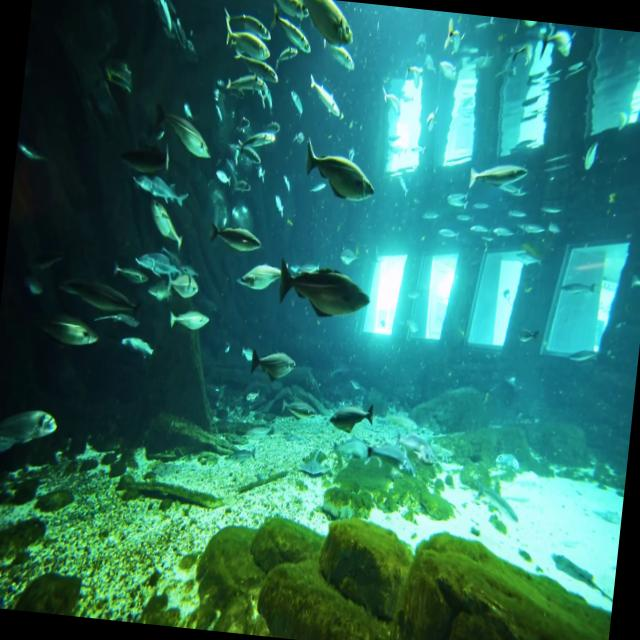fish: (258, 245, 374, 336), (299, 132, 387, 208), (150, 95, 225, 162), (54, 268, 143, 324), (0, 396, 61, 464), (31, 303, 104, 352), (235, 334, 300, 389), (212, 16, 276, 64), (144, 182, 189, 249), (267, 7, 319, 63), (464, 156, 532, 198), (202, 212, 264, 258), (321, 391, 378, 439), (230, 254, 284, 300), (218, 0, 275, 38), (164, 303, 214, 344), (158, 259, 202, 301), (125, 239, 172, 277), (244, 52, 287, 85), (265, 0, 311, 23)
